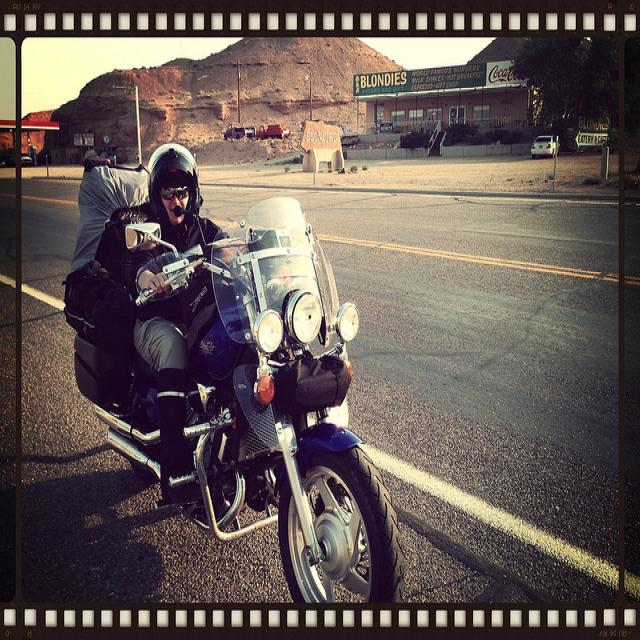motor: (131, 226, 406, 608)
